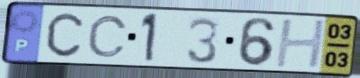1: (138, 11, 162, 65)
3: (186, 14, 219, 66)
6: (236, 16, 279, 69)
C: (86, 14, 130, 59), (45, 11, 86, 59)
H: (273, 18, 329, 70)
